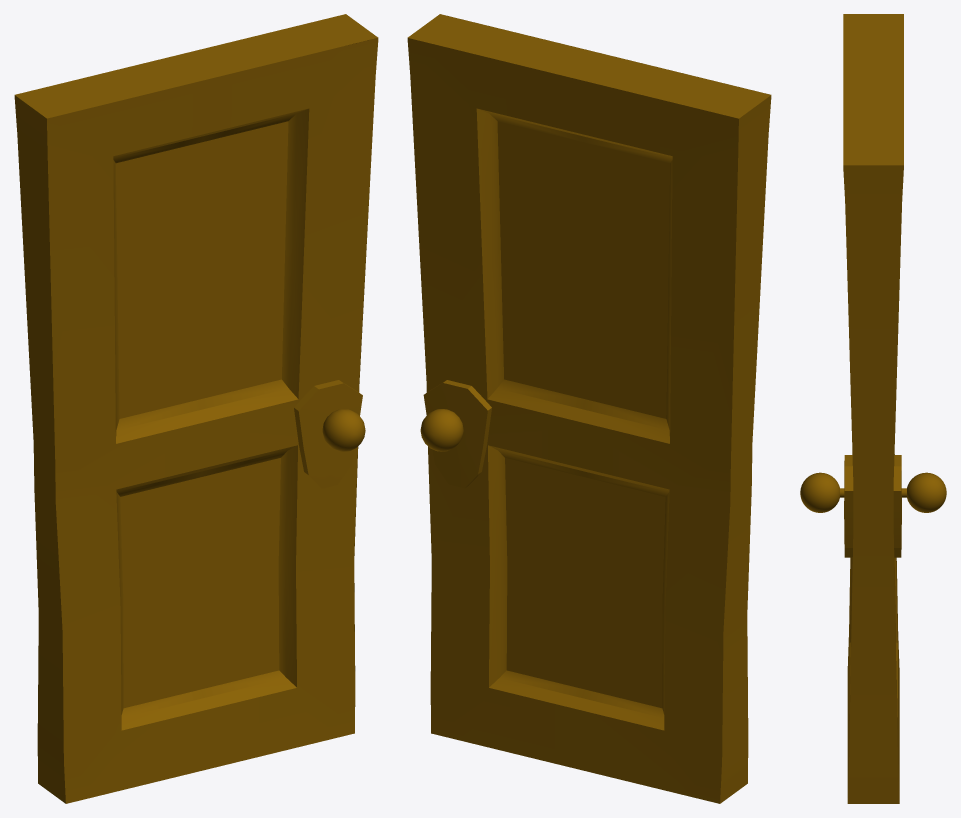
File: puerta.fbx
3 views of the same model, side by side, from view 1: azimuth 30°, elevation 25°; view 2: azimuth 150°, elevation 25°; view 3: azimuth 270°, elevation 25° (orthographic). The views are drawn at different scales.
Visible parts, largest first — view 1: polySurface17; view 2: polySurface17; view 3: polySurface17.
Boxes of the visible parts, bbox=[...] form: polySurface17: bbox=[14, 14, 378, 803]; polySurface17: bbox=[407, 14, 771, 803]; polySurface17: bbox=[800, 14, 946, 803].
Bounding box in the file's own units: 101 × 202 × 41.44.
